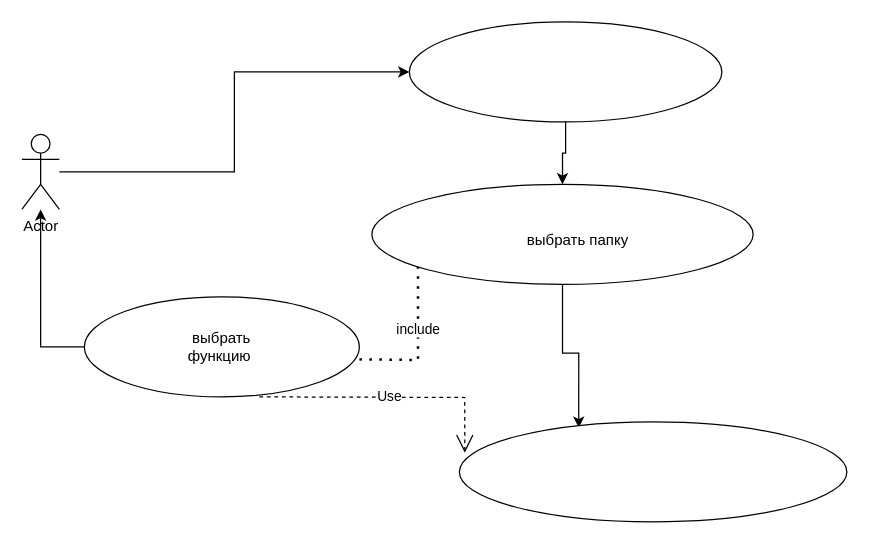
This 869x544 diagram has some shape labels left out. The centre of each missing label's shape, as x and y in pixels:
"выбрать Репозиторий(диск)" belongs at point 565,71.
"выбрать файл" belongs at point 652,471.
